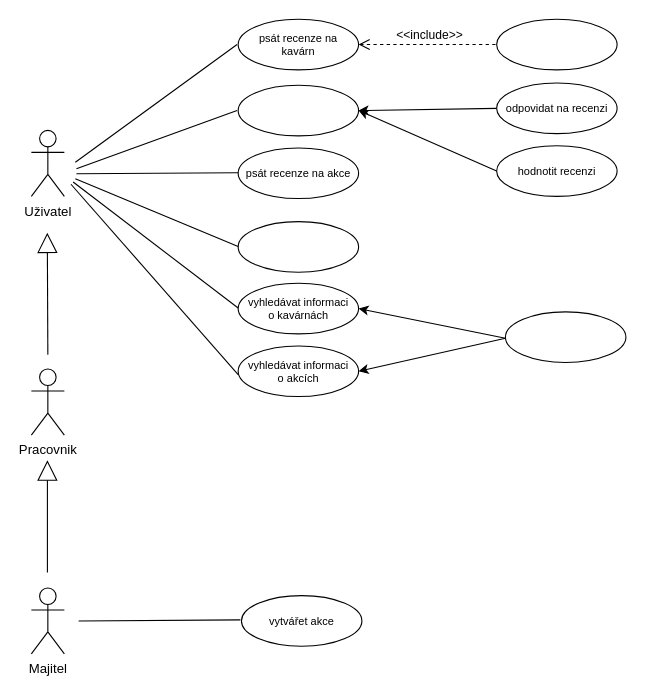
The diagram is 646 pixels wide and 696 high, and some of its shapes have lost their labels. The centre of each missing label's shape, as x and y in pixels:
hodnotit kavárny: (x=556, y=44)
měnit základní informaci: (x=298, y=246)
reagovat na recenze: (x=298, y=110)
vyhledávat recenze: (x=565, y=336)
